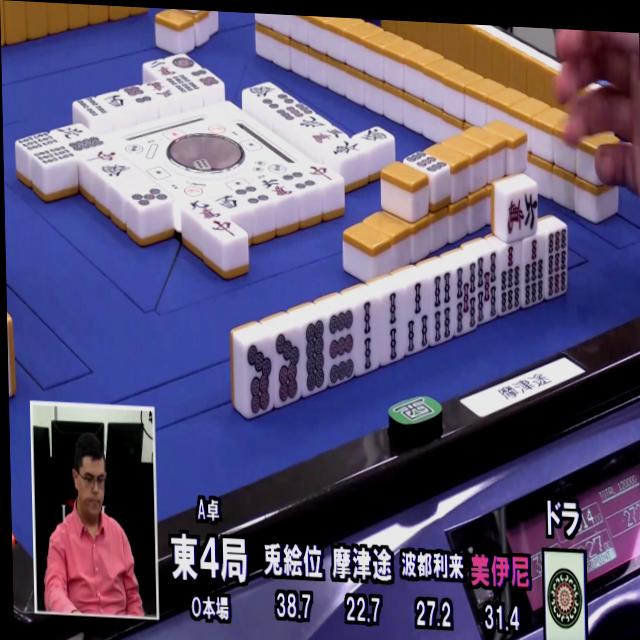1D: (546, 550, 584, 640)
2B: (353, 298, 384, 376), (376, 288, 406, 366)
3B: (403, 279, 434, 357)
4B: (430, 270, 459, 348)
5B: (475, 252, 503, 328), (453, 264, 481, 339)
6C: (506, 184, 538, 236)
7B: (497, 241, 524, 317), (521, 236, 548, 310)
7D: (240, 339, 276, 421), (271, 328, 304, 409)
8D: (301, 319, 330, 398)
9B: (545, 224, 571, 303)
9D: (326, 305, 361, 388)
